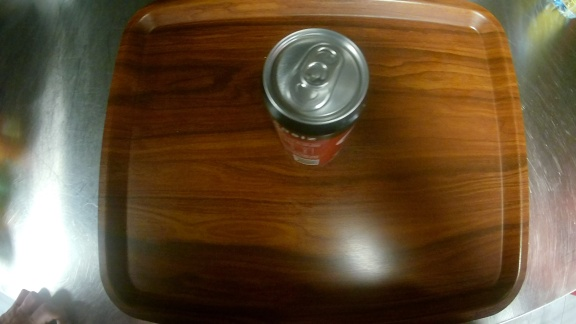kutukola: (255, 24, 373, 173)
